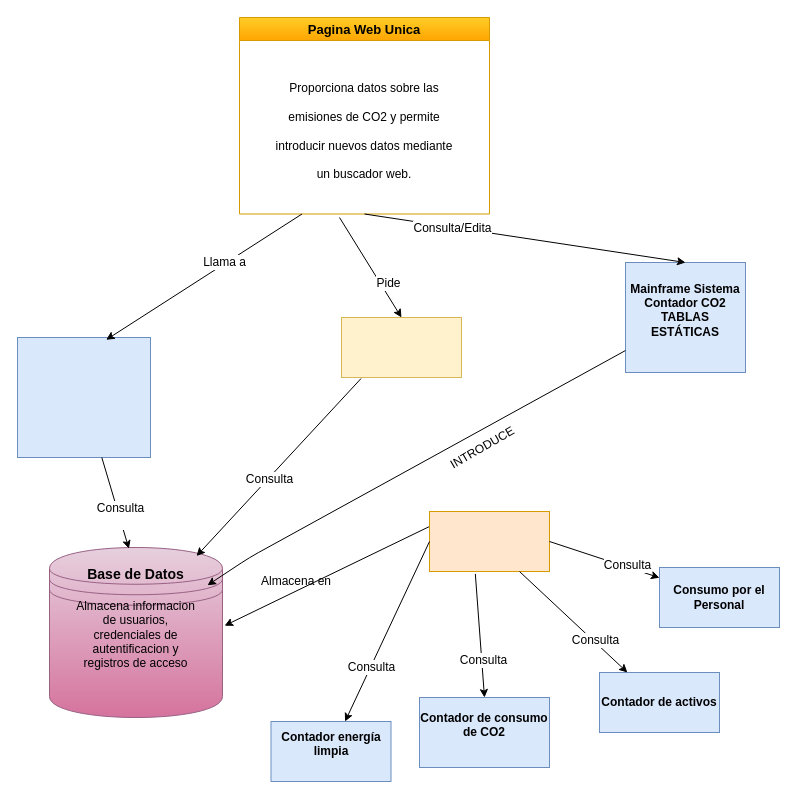
Image size: 797x799. Some labels were removed from this diagram. Here are the shapes that lost their labels. From the top down, the centre of each, then its label:
At pixel 401 347: "CÁLCULO TOTAL".
At pixel 83 397: "Sign in Controller Permite a los usuarios registrarse en la aplicación".
At pixel 489 541: "API (Periódocamente)".
